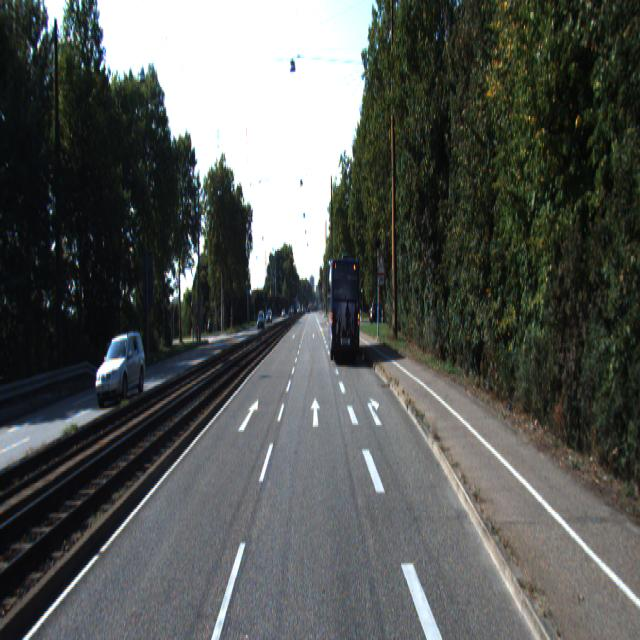Car: (93, 327, 148, 408)
DontCare: (252, 297, 321, 334), (366, 288, 387, 325)
Truck: (329, 252, 360, 361)
